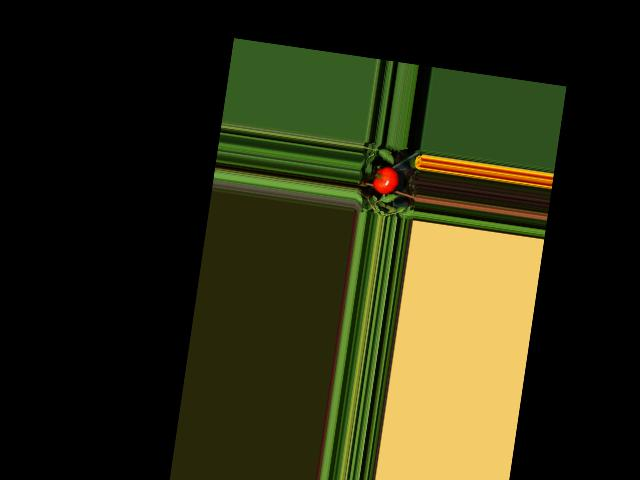tomato: (371, 164, 400, 196)
